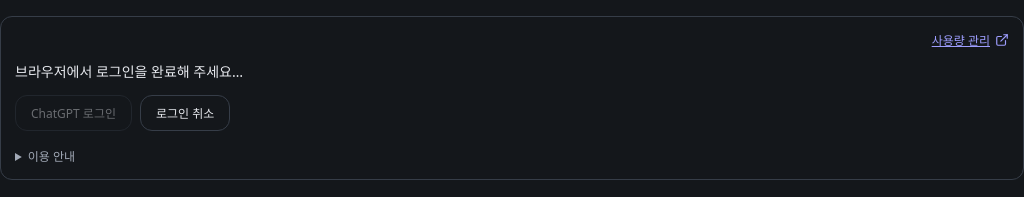
cancels a pending browser sign-in without requiring an account
The image size is (1024, 197).
Click the button "로그인 취소": [185, 113] box [140, 95, 230, 131]
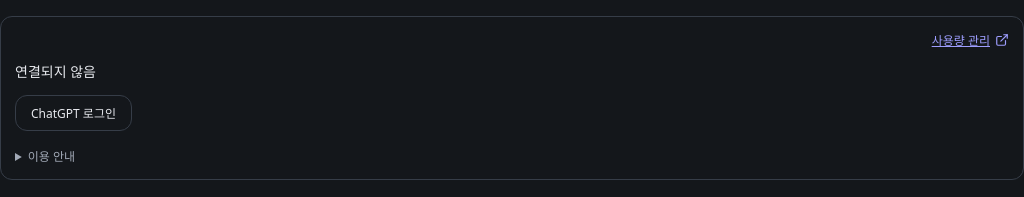
Expected: the text "연결되지 않음" is shown, [15, 62, 96, 81]
